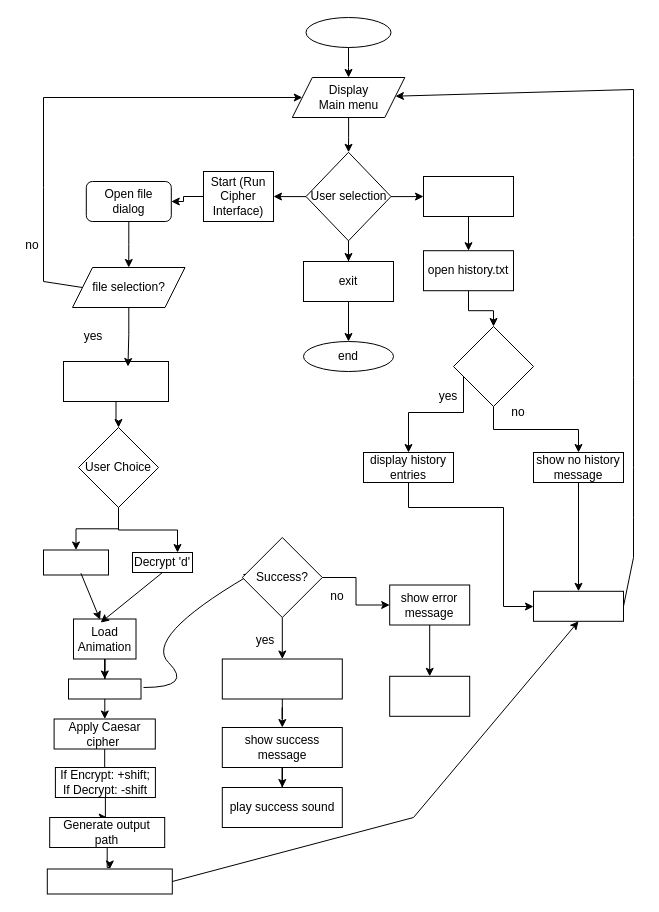
The diagram is 659 pixels wide and 912 high, and some of its shapes have lost their labels. Here are the shapes that lost their labels. From the top down, the box of each, then its label:
(305, 16, 391, 48): Start
(422, 176, 514, 216): History (show history screen)
(62, 360, 168, 402): display operation choice
(452, 326, 534, 406): file exist?
(42, 549, 108, 575): Encrypt 'e'
(532, 590, 624, 621): wait for key press
(68, 678, 141, 699): process file
(221, 658, 342, 699): log action to history
(389, 675, 470, 716): play error sound
(46, 868, 172, 894): Return success status
